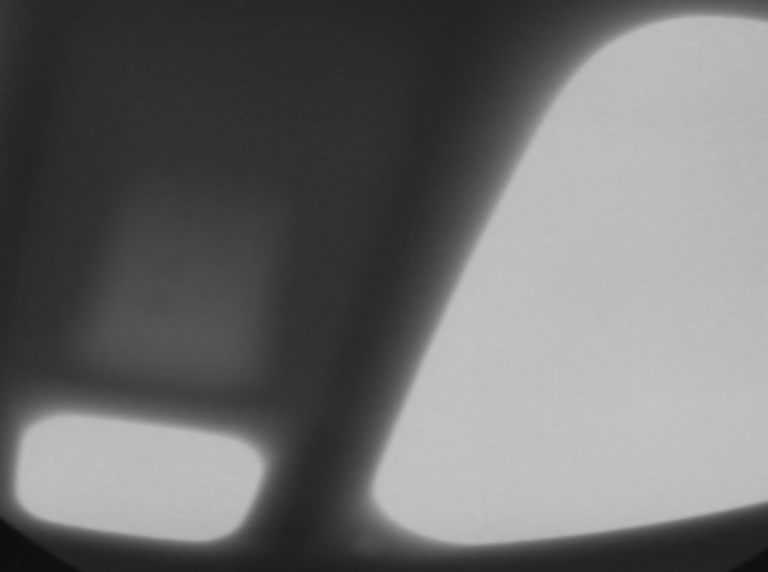defect: (333, 518, 396, 563)
